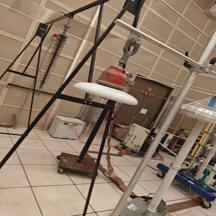insulator: (69, 58, 143, 114)
